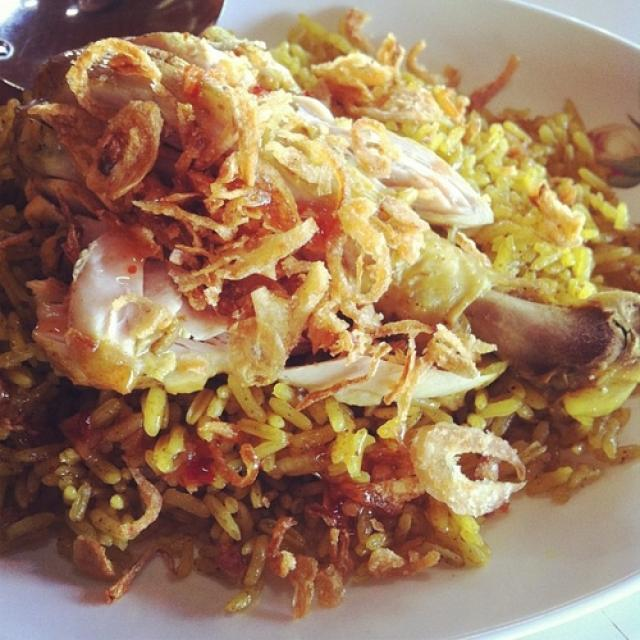米饭主食: (12, 13, 620, 626)
